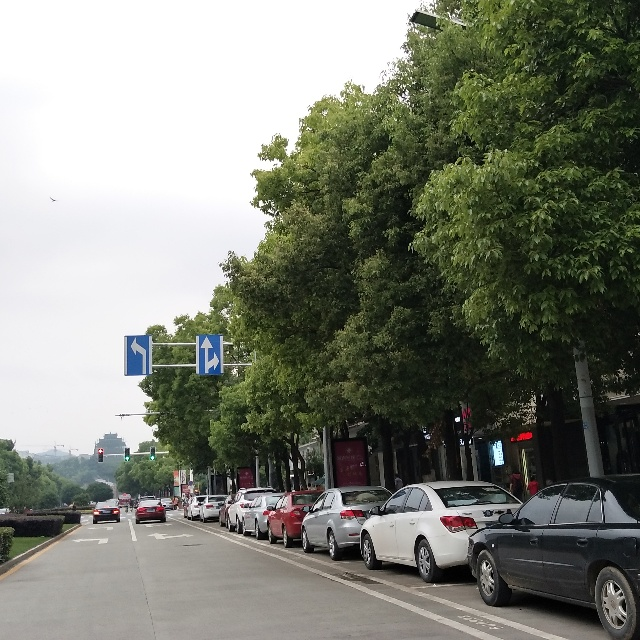left: (122, 335, 151, 377)
